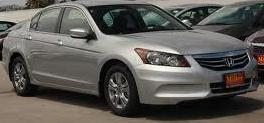front_view: (124, 38, 259, 107)
headlight: (135, 45, 200, 73)
side_glass: (31, 4, 97, 44)
